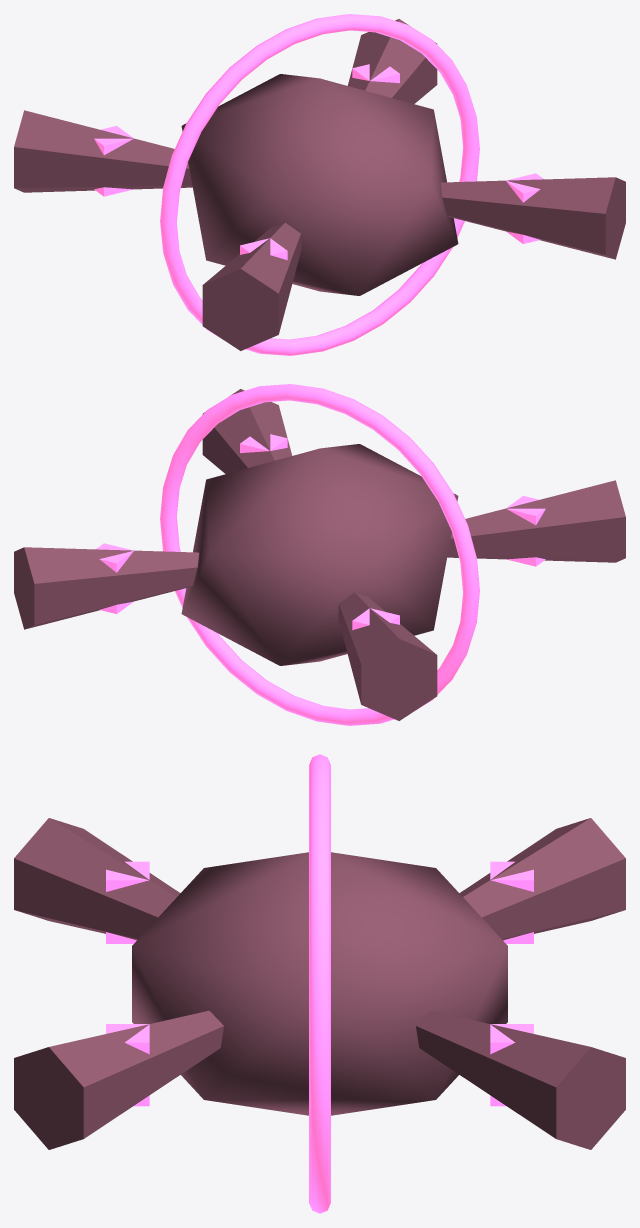
The model's file is chaser.glb.
The picture shows the model from 3 angles, top to bottom: view 1: azimuth 30°, elevation 25°; view 2: azimuth 150°, elevation 25°; view 3: azimuth 270°, elevation 25°; orthographic projection. The views are drawn at different scales.
Visible parts, largest first — view 1: core, ring, spike.003, spike.001, spike.002, spike, tip.001, tip.003, tip; view 2: core, ring, spike, spike.002, spike.001, spike.003, tip.002, tip, tip.003; view 3: core, spike, spike.003, spike.001, spike.002, ring, tip.001, tip.002, tip, tip.003.
Part boxes in pixels (x1=…): core: x1=181, y1=74, x2=458, y2=295; ring: x1=160, y1=14, x2=479, y2=355; spike.003: x1=440, y1=177, x2=625, y2=259; spike.001: x1=14, y1=110, x2=192, y2=192; spike.002: x1=202, y1=222, x2=301, y2=350; spike: x1=347, y1=19, x2=437, y2=103; tip.001: x1=94, y1=126, x2=133, y2=196; tip.003: x1=506, y1=173, x2=543, y2=243; tip: x1=352, y1=64, x2=399, y2=83; core: x1=181, y1=444, x2=458, y2=665; ring: x1=160, y1=384, x2=479, y2=725; spike: x1=14, y1=547, x2=199, y2=629; spike.002: x1=447, y1=480, x2=625, y2=562; spike.001: x1=338, y1=592, x2=437, y2=720; spike.003: x1=202, y1=389, x2=292, y2=473; tip.002: x1=506, y1=496, x2=545, y2=566; tip: x1=96, y1=543, x2=133, y2=613; tip.003: x1=240, y1=434, x2=287, y2=453; core: x1=132, y1=852, x2=507, y2=1115; spike: x1=416, y1=1010, x2=625, y2=1149; spike.003: x1=14, y1=1010, x2=223, y2=1149; spike.001: x1=459, y1=818, x2=625, y2=940; spike.002: x1=14, y1=818, x2=180, y2=940; ring: x1=309, y1=754, x2=330, y2=1213; tip.001: x1=490, y1=861, x2=533, y2=943; tip.002: x1=106, y1=861, x2=149, y2=943; tip: x1=490, y1=1024, x2=533, y2=1106; tip.003: x1=106, y1=1024, x2=149, y2=1106.
Size of the model in its own units: 1.4 by 1.05 by 1.4.
